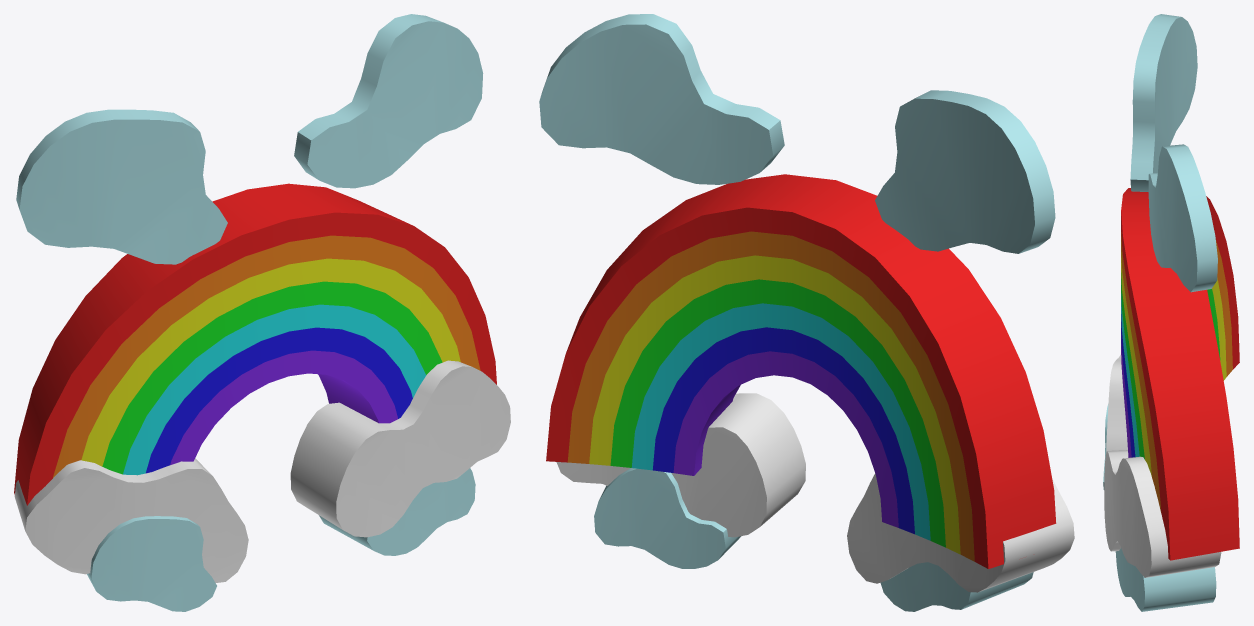
The model's file is Unicorn_Outer.fbx.
3 renders of one model, left to right at view 1: azimuth 30°, elevation 25°; view 2: azimuth 150°, elevation 25°; view 3: azimuth 270°, elevation 25°, orthographic. The views are drawn at different scales.
Parts seen in each view (by area): view 1: Rainbow_Outer; view 2: Rainbow_Outer; view 3: Rainbow_Outer.
Boxes of the visible parts, bbox=[...] form: Rainbow_Outer: bbox=[14, 14, 510, 611]; Rainbow_Outer: bbox=[539, 14, 1074, 611]; Rainbow_Outer: bbox=[1103, 14, 1239, 611].
Size of the model in its own units: 33.76 by 33.57 by 9.09.
